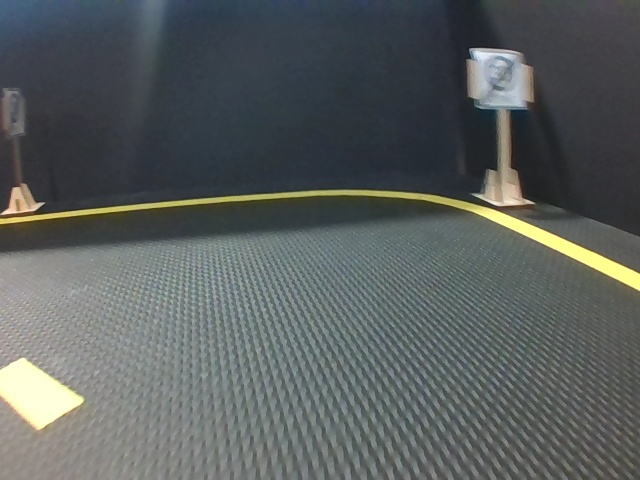no30: (475, 50, 524, 109), (2, 88, 24, 135)
